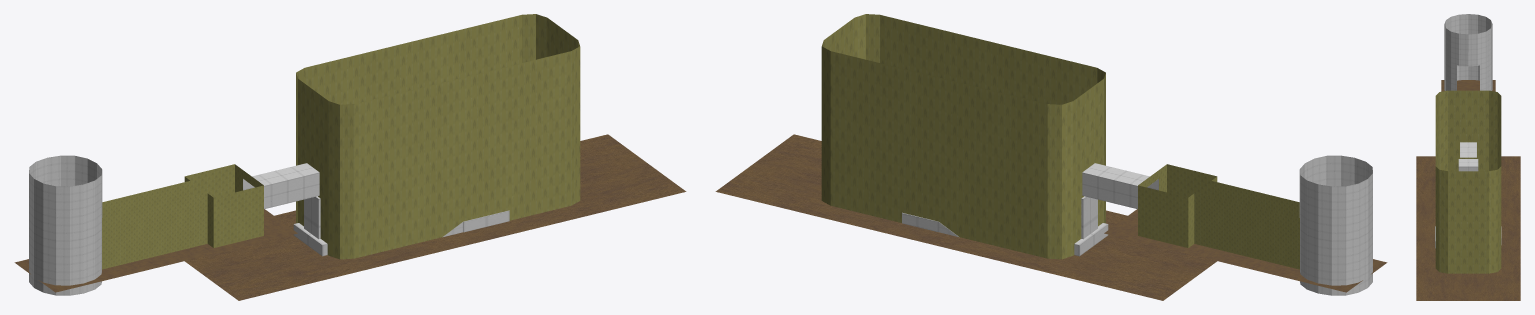
The model's file is tutorialStage.gltf.
The picture shows the model from 3 angles, left to right: view 1: azimuth 30°, elevation 25°; view 2: azimuth 150°, elevation 25°; view 3: azimuth 270°, elevation 25°; orthographic projection. The views are drawn at different scales.
Parts seen in each view (by area): view 1: 立方体.002, 平面, 立方体.010, 立方体.009, 立方体.008, 平面.001, 立方体.007, 立方体.005, 立方体.001, 立方体.006; view 2: 立方体.002, 平面, 立方体.010, 立方体.009, 立方体.008, 平面.001, 立方体.007, 立方体.005, 立方体.006; view 3: 立方体.002, 平面, 立方体.010, 平面.001, 立方体.007, 立方体.005.
Part boxes in pixels (box(x1,y1,x2,y2)): 立方体.002: box(296, 14, 580, 259); 平面: box(185, 134, 686, 300); 立方体.010: box(29, 155, 102, 295); 立方体.009: box(102, 181, 207, 269); 立方体.008: box(184, 164, 263, 247); 平面.001: box(14, 209, 297, 292); 立方体.007: box(243, 163, 319, 209); 立方体.005: box(304, 196, 320, 239); 立方体.001: box(463, 210, 509, 232); 立方体.006: box(293, 223, 327, 256); 立方体.002: box(821, 14, 1105, 259); 平面: box(715, 134, 1216, 300); 立方体.010: box(1299, 155, 1372, 295); 立方体.009: box(1194, 181, 1299, 269); 立方体.008: box(1138, 164, 1217, 247); 平面.001: box(1104, 209, 1387, 292); 立方体.007: box(1082, 163, 1158, 209); 立方体.005: box(1081, 196, 1097, 239); 立方体.006: box(1074, 223, 1108, 256); 立方体.002: box(1435, 90, 1501, 273); 平面: box(1416, 156, 1520, 300); 立方体.010: box(1444, 14, 1492, 90); 平面.001: box(1441, 80, 1495, 91); 立方体.007: box(1460, 142, 1476, 157); 立方体.005: box(1458, 159, 1478, 171).
Bounding box in the file's own units: 251 × 64.68 × 55.64.
